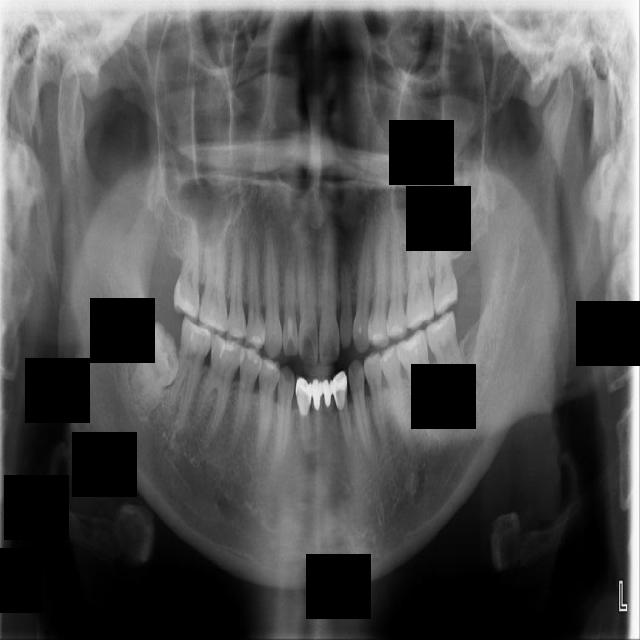52: (388, 323, 440, 373), (200, 330, 250, 379), (172, 314, 218, 358), (173, 275, 200, 321), (350, 309, 375, 353), (377, 341, 404, 379), (293, 373, 314, 418), (384, 305, 409, 342), (239, 341, 262, 377), (244, 321, 265, 360), (368, 311, 390, 347), (331, 371, 349, 411)
73: (587, 586, 597, 604)
BioHorizons Implant: (432, 217, 461, 316)
Blue Sky Bio Implant: (421, 310, 474, 416)
Caries: (171, 212, 200, 323)
Implant: (165, 316, 216, 426)
Keystone Dental Implant: (122, 319, 194, 411)
